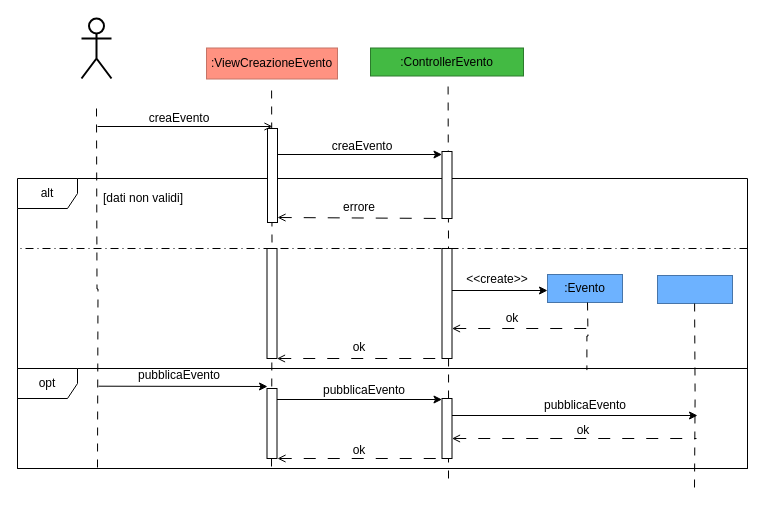
Image size: 766x507. Some labels were removed from this diagram. Here are the shapes that lost their labels. From the top down, the centre of each, then its label:
At (96,48): "Utente".
At (694,289): ":Bacheca".
